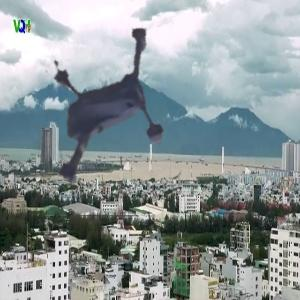drone: (11, 40, 198, 227)
